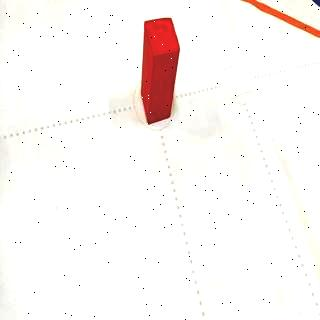redbox: (140, 16, 180, 124)
